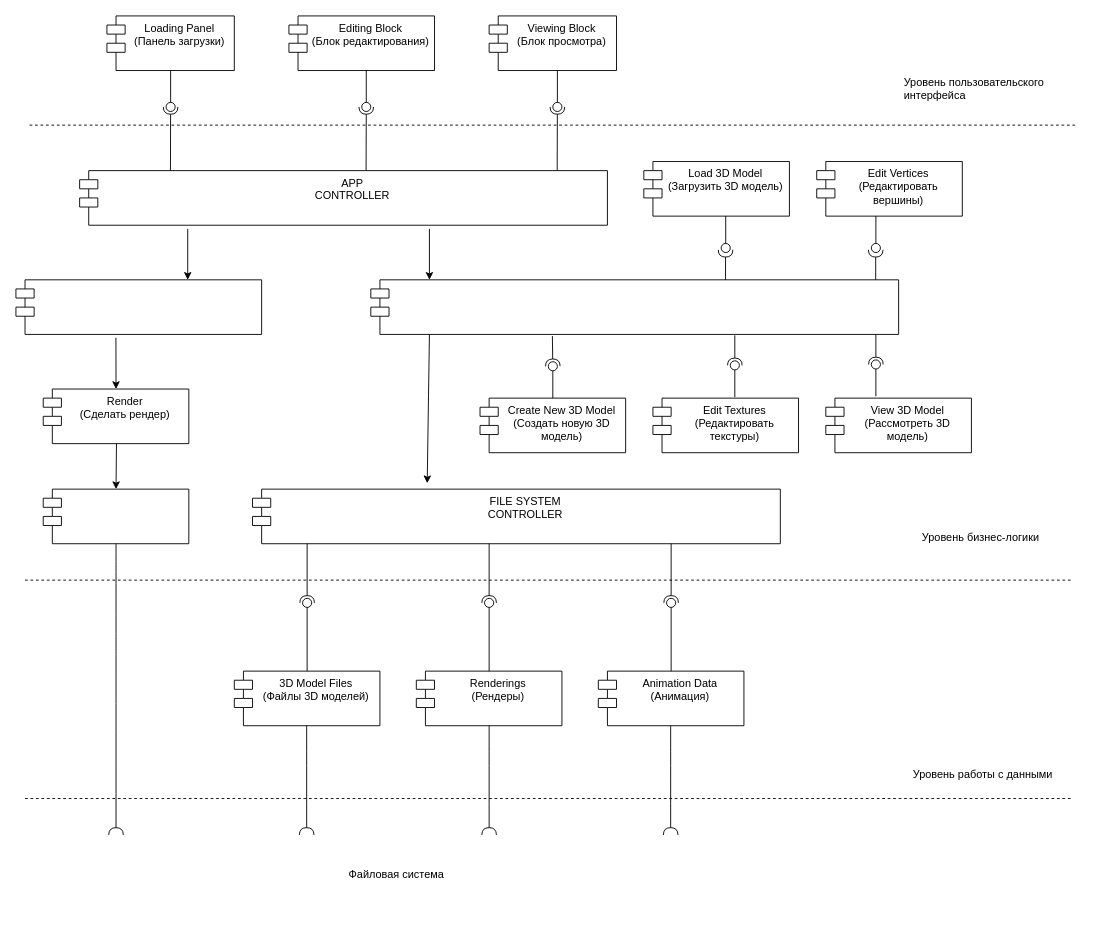
The diagram is 1106 pixels wide and 926 high, and some of its shapes have lost their labels. Here are the shapes that lost their labels. From the top down, the centre of each, then its label:
At point 138,306: "RENDER CONTROLLER".
At point 634,306: "3D MODEL CONTROLLER".
At point 115,516: "Save Render (Сохранить рендер)".
